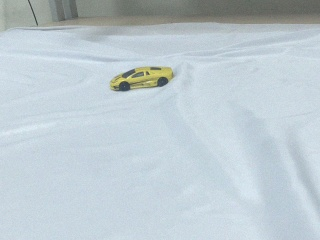toy_car: (109, 66, 174, 92)
